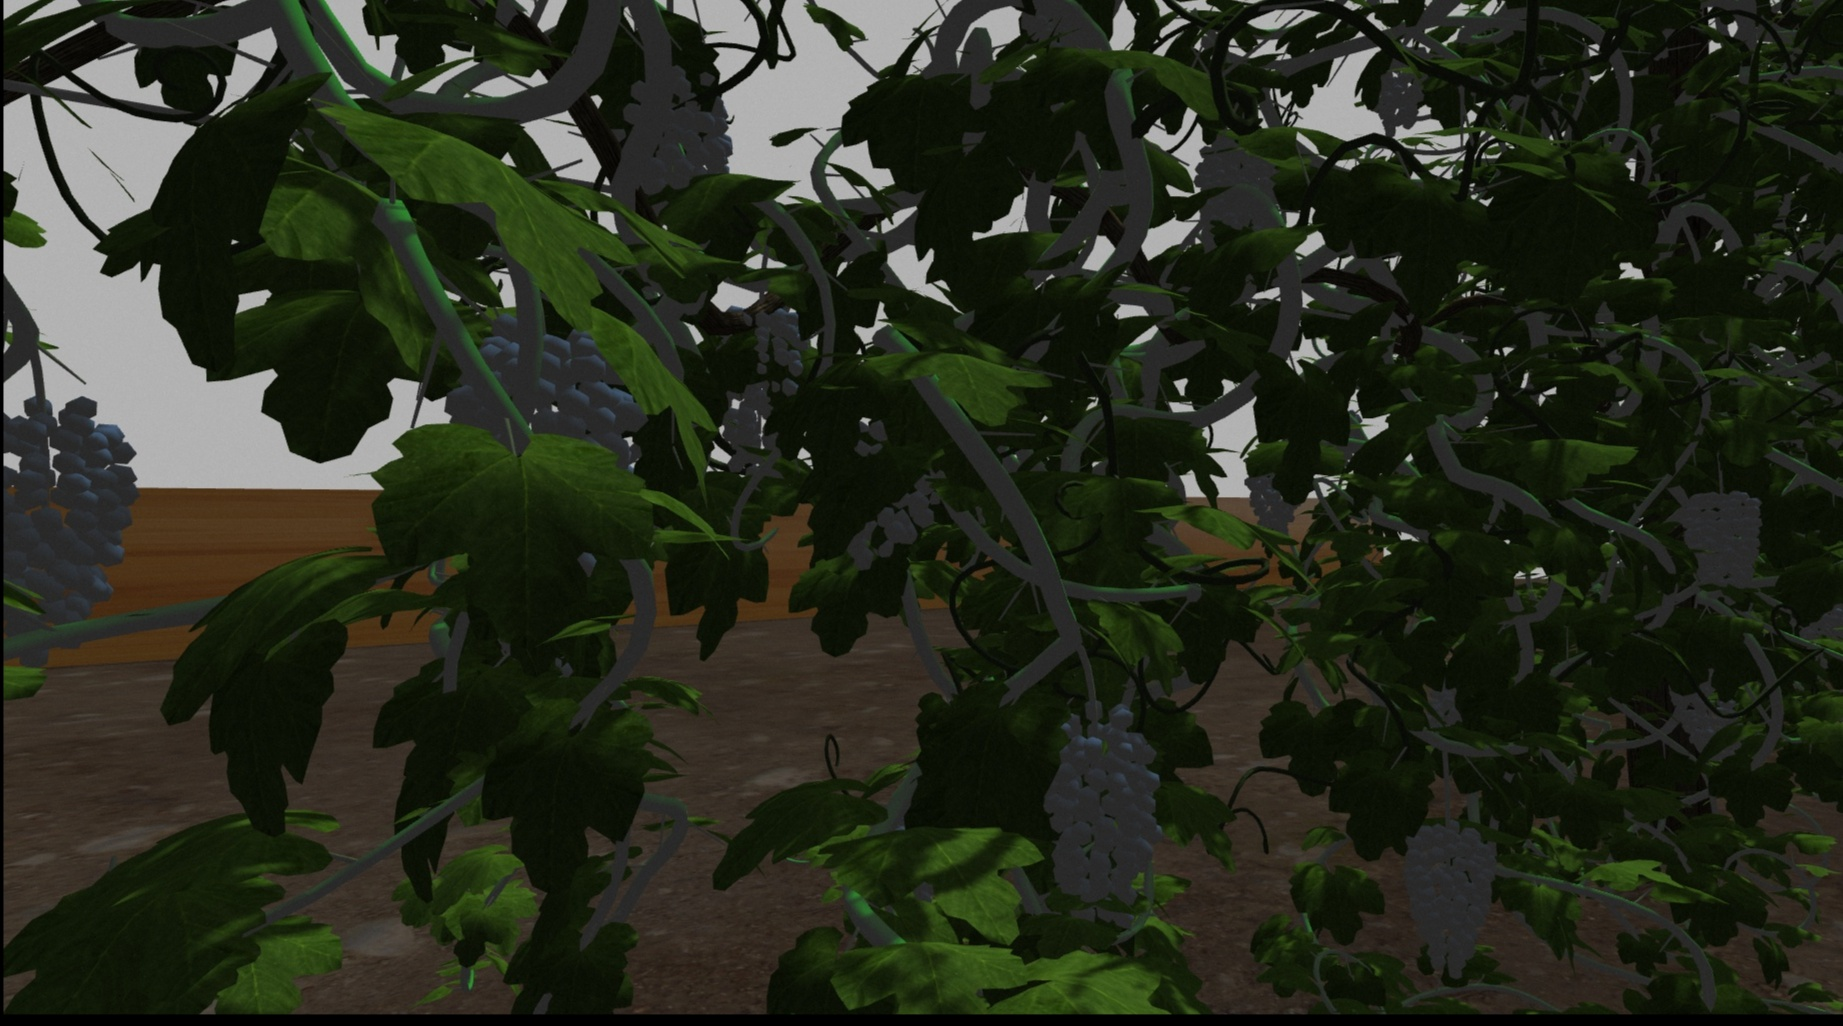grape: (8, 395, 136, 624), (442, 323, 635, 468), (1042, 699, 1160, 926), (1396, 778, 1499, 978), (616, 62, 733, 195), (1192, 131, 1277, 249), (1680, 488, 1767, 589), (1371, 68, 1424, 134)
